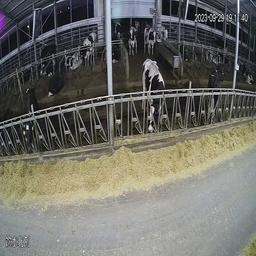cow: (140, 57, 167, 134), (18, 85, 40, 159), (203, 60, 222, 121), (76, 28, 97, 67), (47, 61, 64, 97), (143, 25, 158, 58), (39, 57, 60, 79), (63, 50, 84, 72), (36, 43, 55, 66), (126, 24, 138, 57), (239, 61, 254, 86), (112, 20, 126, 45), (213, 36, 229, 55), (105, 45, 119, 64), (206, 48, 221, 65), (179, 42, 189, 63), (159, 22, 169, 43)
